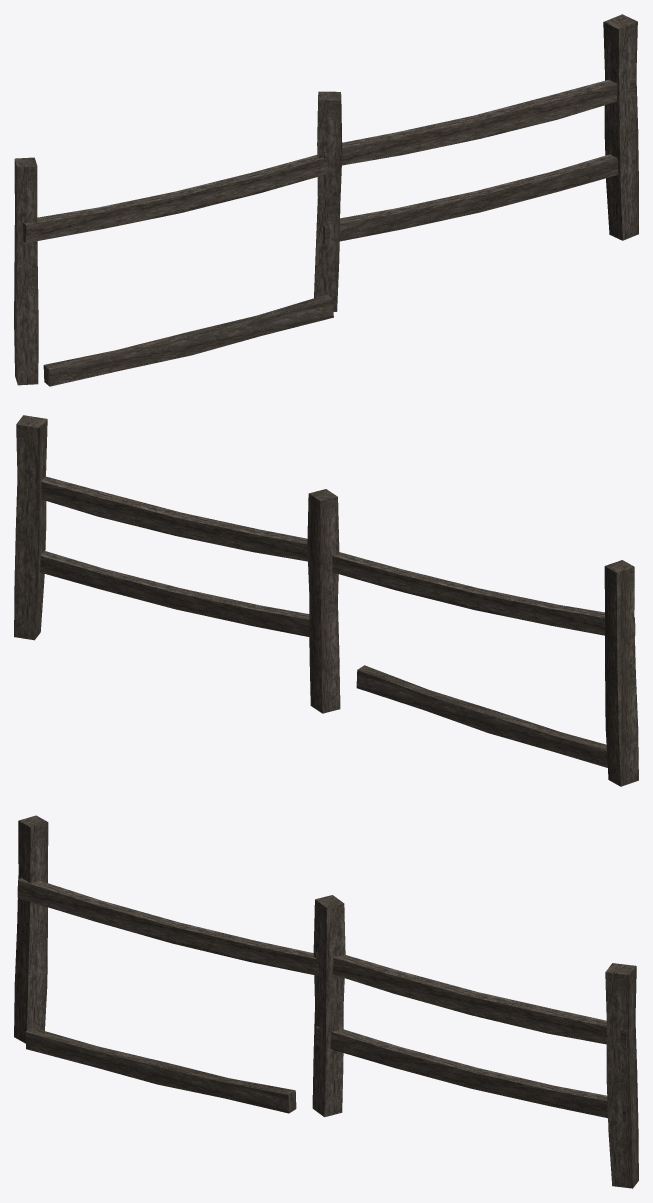
Rendered from Fence_03.fbx.
3 views of the same model, one above another, from view 1: azimuth 30°, elevation 25°; view 2: azimuth 150°, elevation 25°; view 3: azimuth 330°, elevation 25° (orthographic).
Visible parts, largest first — view 1: Fence03_Rail1_1_Export, Fence03_Rail0_1_Export, Fence03_DroppedRail_Export, Fence03_Post3_Export, Fence03_Rail1_0_Export, Fence03_Post1_Export, Fence03_Post2_Export; view 2: Fence03_Post1_Export, Fence03_Rail1_1_Export, Fence03_Post2_Export, Fence03_Post3_Export, Fence03_Rail0_1_Export, Fence03_Rail1_0_Export, Fence03_DroppedRail_Export; view 3: Fence03_Rail1_1_Export, Fence03_Rail0_1_Export, Fence03_Post3_Export, Fence03_Rail1_0_Export, Fence03_DroppedRail_Export, Fence03_Post1_Export, Fence03_Post2_Export.
Part boxes in pixels (x1=…): Fence03_Rail1_1_Export: x1=324, y1=78, x2=635, y2=168; Fence03_Rail0_1_Export: x1=22, y1=155, x2=327, y2=243; Fence03_DroppedRail_Export: x1=43, y1=294, x2=333, y2=386; Fence03_Post3_Export: x1=603, y1=14, x2=638, y2=240; Fence03_Rail1_0_Export: x1=323, y1=152, x2=635, y2=244; Fence03_Post1_Export: x1=14, y1=157, x2=38, y2=385; Fence03_Post2_Export: x1=314, y1=91, x2=342, y2=311; Fence03_Post1_Export: x1=604, y1=560, x2=638, y2=786; Fence03_Rail1_1_Export: x1=41, y1=476, x2=307, y2=561; Fence03_Post2_Export: x1=307, y1=489, x2=340, y2=713; Fence03_Post3_Export: x1=14, y1=415, x2=47, y2=640; Fence03_Rail0_1_Export: x1=332, y1=552, x2=635, y2=635; Fence03_Rail1_0_Export: x1=40, y1=551, x2=309, y2=636; Fence03_DroppedRail_Export: x1=356, y1=665, x2=607, y2=767; Fence03_Rail1_1_Export: x1=316, y1=952, x2=626, y2=1047; Fence03_Rail0_1_Export: x1=17, y1=877, x2=319, y2=975; Fence03_Post3_Export: x1=605, y1=963, x2=638, y2=1188; Fence03_Rail1_0_Export: x1=316, y1=1026, x2=626, y2=1121; Fence03_DroppedRail_Export: x1=25, y1=1027, x2=296, y2=1113; Fence03_Post1_Export: x1=14, y1=815, x2=48, y2=1043; Fence03_Post2_Export: x1=312, y1=895, x2=345, y2=1117.
Size of the model in its own units: 1246 by 415 by 115.
1 material, 1 textured.
